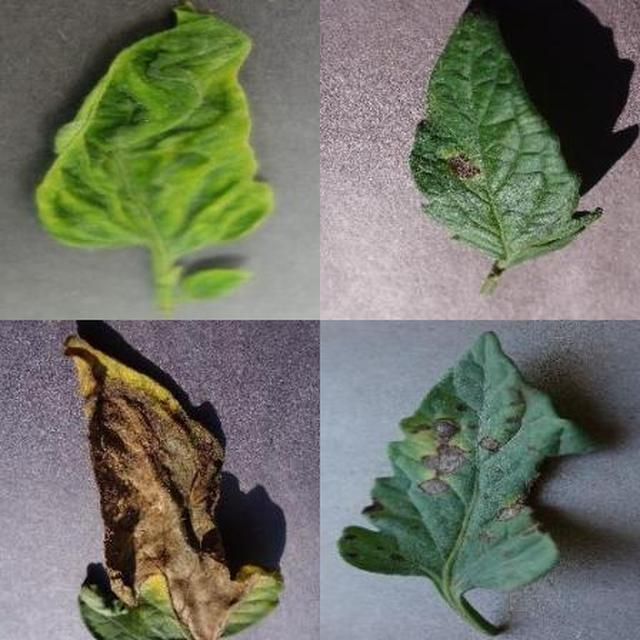Yellow Leaf Curl Virus: (110, 51, 640, 640)
